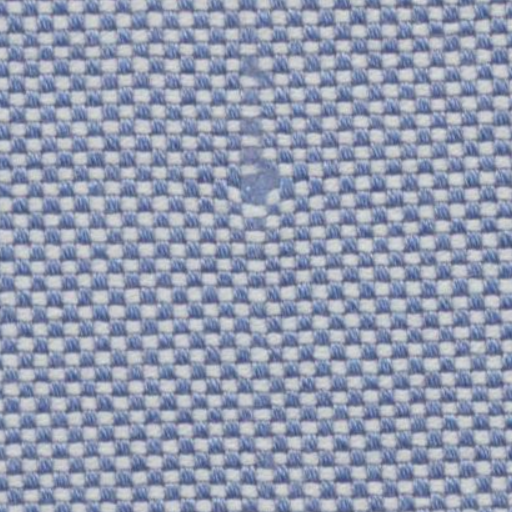MianQiu: (225, 163, 305, 239)
